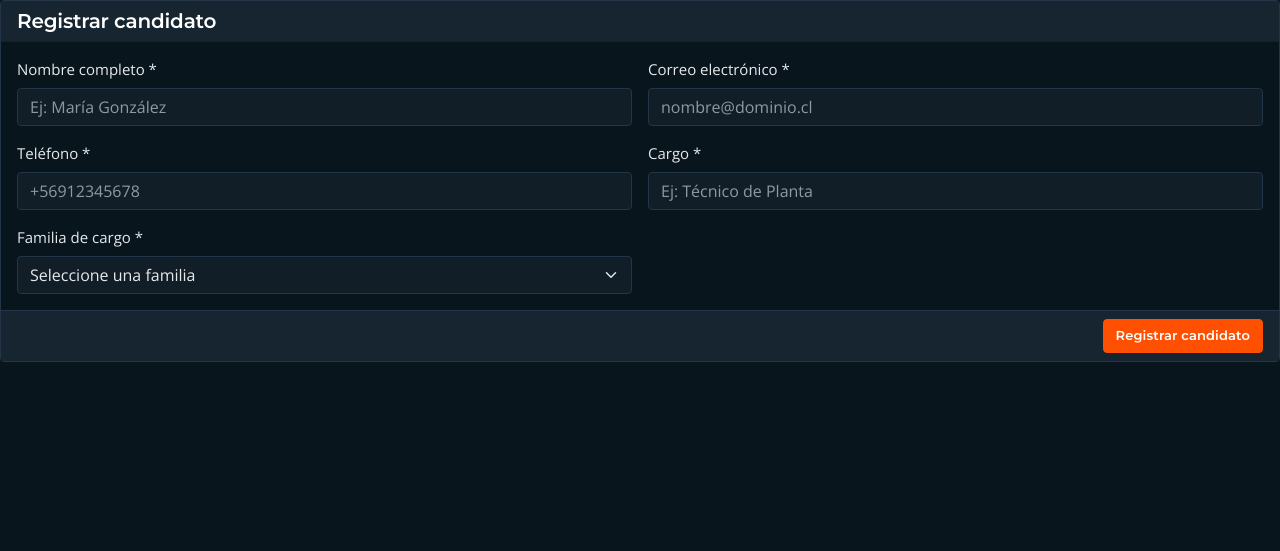
FormularioCandidato › muestra los errores de validación al enviar el formulario vacío
The image size is (1280, 551).
Click the button "Registrar candidato" at (1183, 336), box [1103,319,1263,352]
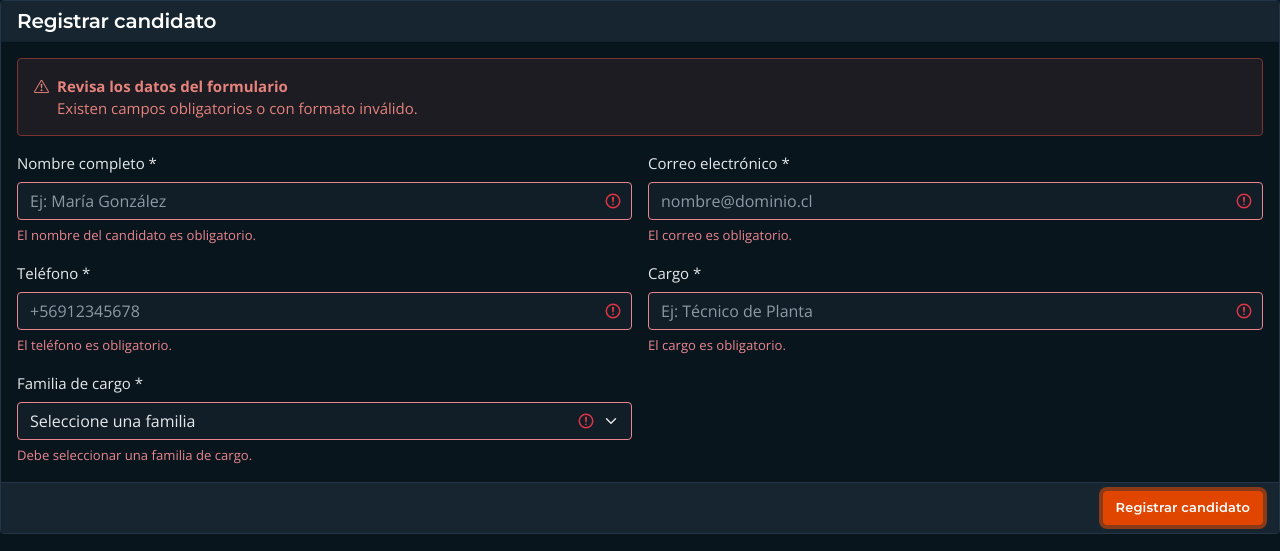
Result: the text "El nombre del candidato es obligatorio." is shown at [17,226,256,244]
Result: the text "El correo es obligatorio." is shown at [648,226,792,244]
